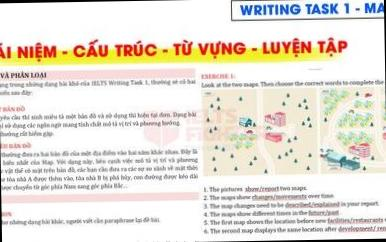text: (0, 33, 348, 63), (1, 163, 199, 175), (0, 110, 197, 122), (1, 147, 198, 159), (238, 0, 384, 16), (200, 78, 386, 90), (202, 214, 386, 226), (1, 172, 199, 183), (1, 156, 198, 167), (0, 77, 196, 88), (0, 118, 180, 129), (202, 200, 381, 210), (1, 216, 160, 226), (202, 208, 341, 218), (203, 192, 336, 202), (1, 182, 128, 192), (203, 184, 308, 194), (0, 69, 48, 79), (0, 130, 55, 138), (1, 140, 32, 151), (0, 88, 33, 97), (200, 73, 236, 80), (0, 104, 25, 112), (1, 210, 12, 218)
